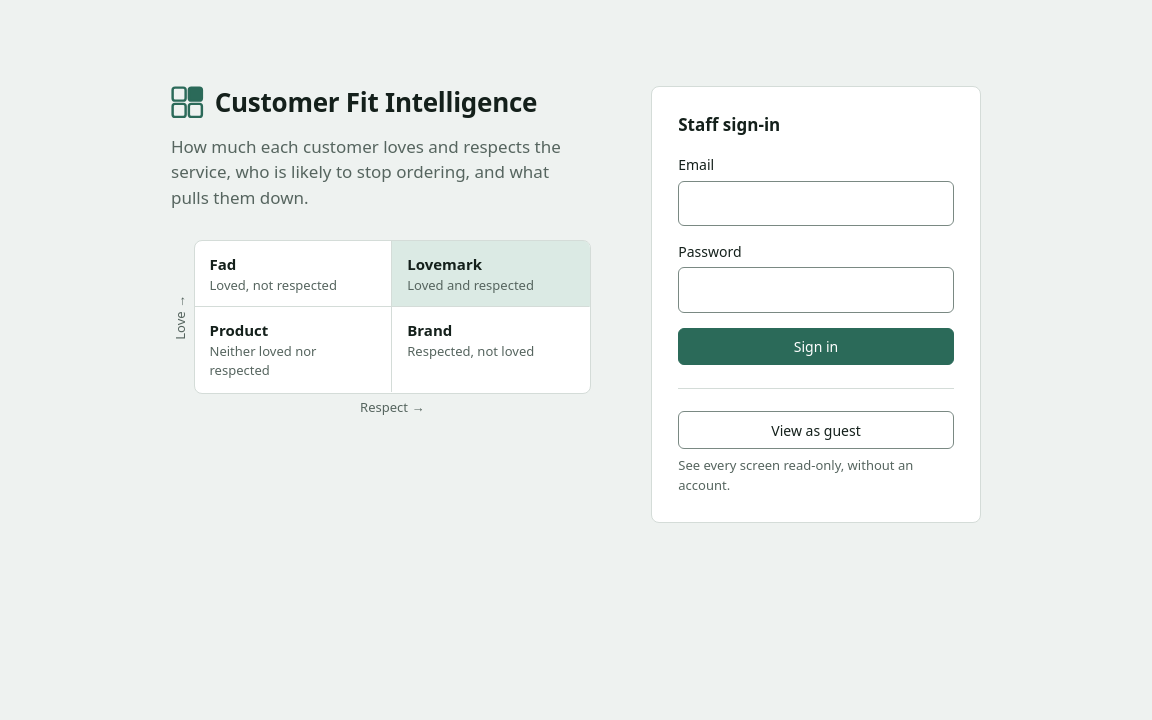
a guest sees every screen read-only, and can leave
The width and height of the screenshot is (1152, 720).
Click the button "View as guest". click: coordinates (816, 430)
box: [678,412,954,449]
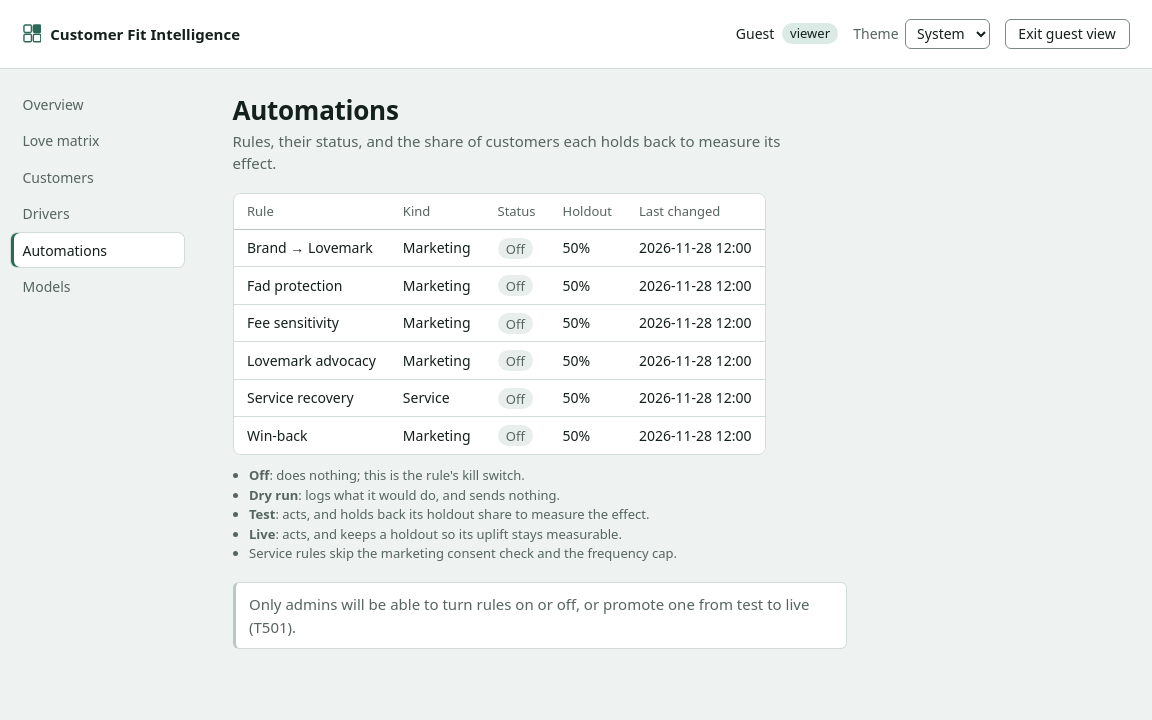
Expected: the heading "Automations" is shown, [232,92,399,128]
Expected: the header shows "Guest viewer", [0,0,1151,68]
Expected: the text "Only admins will be able to turn rules on or off" is shown, [249,594,809,637]
Click the button "Exit guest view". click: coordinates (1067, 34)
box: [1005,18,1130,49]
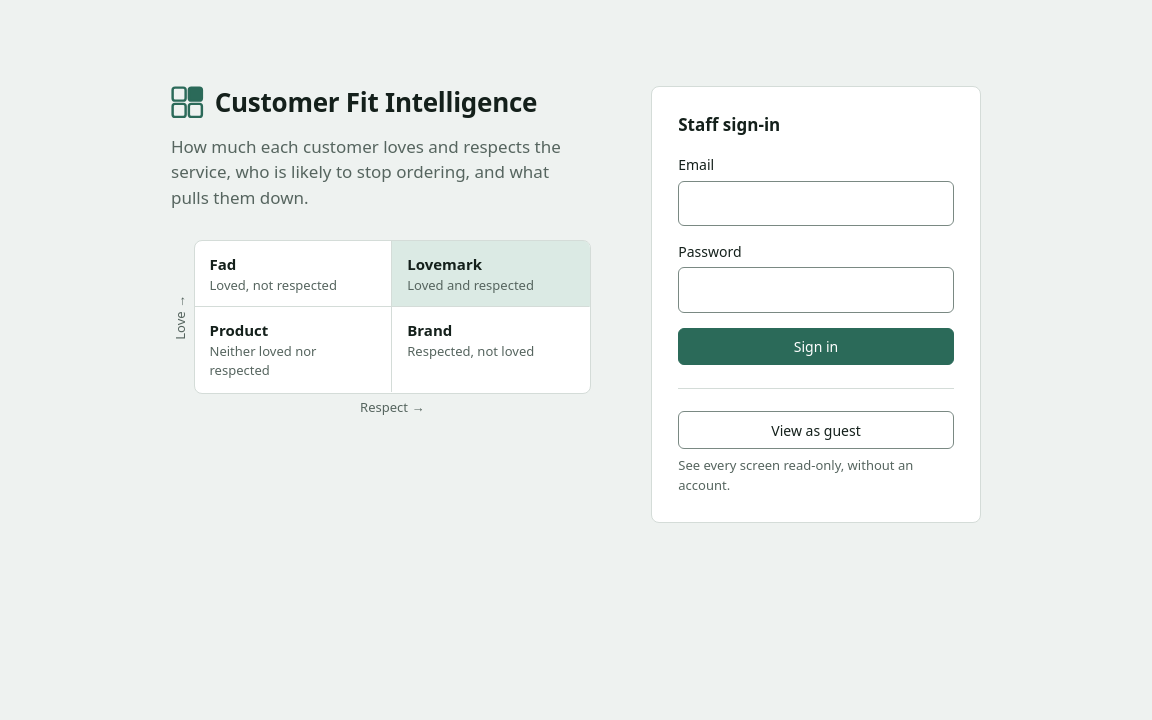
Expected: the button "View as guest" is shown, [678,412,954,449]
